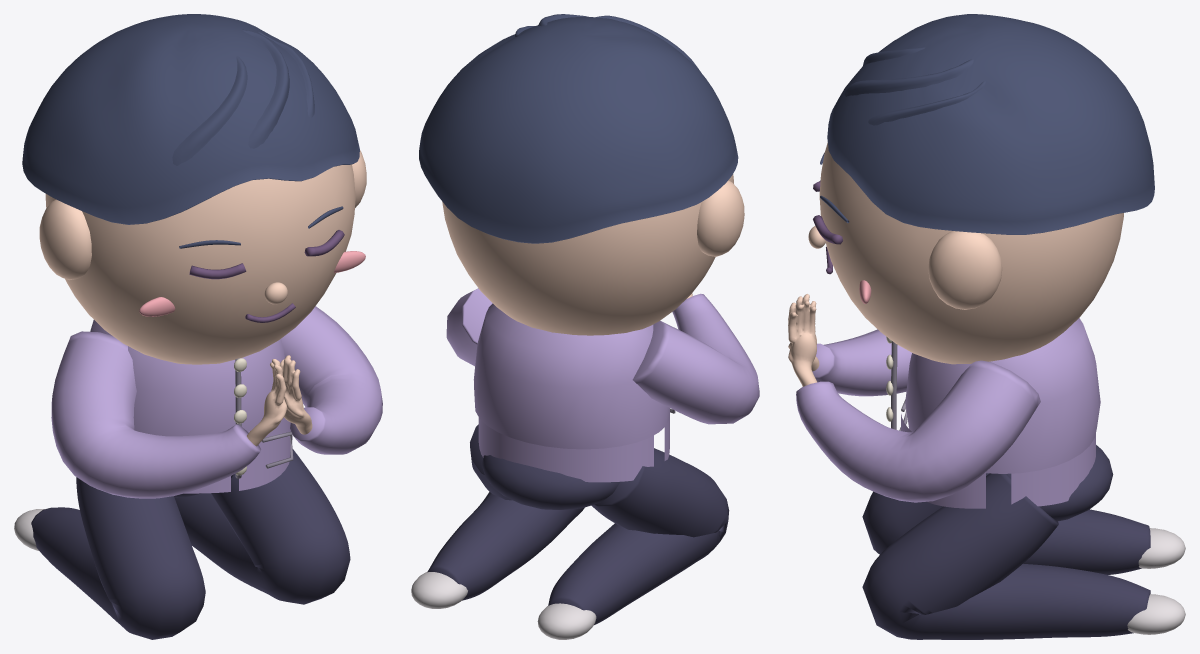
Rendered from meditator_male_kneel_prayer_p06c.glb.
3 renders of one model, left to right at view 1: azimuth 30°, elevation 25°; view 2: azimuth 150°, elevation 25°; view 3: azimuth 270°, elevation 25°, orthographic. The views are drawn at different scales.
Visible parts, largest first — view 1: hair_neat_male_scalp_coverage_p06c_object, skin_rose_cream_UpperBodyBreath_object, ao_ba_ba_top_UpperBodyBreath_object, ao_ba_ba_pants_SeatRoot_object, eyes_mauve_UpperBodyBreath_object, skin_blush_UpperBodyBreath_object, sandal_trim_SeatRoot_object, ao_ba_ba_placket_UpperBodyBreath_object; view 2: hair_neat_male_scalp_coverage_p06c_object, ao_ba_ba_top_UpperBodyBreath_object, ao_ba_ba_pants_SeatRoot_object, skin_rose_cream_UpperBodyBreath_object, sandal_trim_SeatRoot_object; view 3: hair_neat_male_scalp_coverage_p06c_object, ao_ba_ba_top_UpperBodyBreath_object, ao_ba_ba_pants_SeatRoot_object, skin_rose_cream_UpperBodyBreath_object, sandal_trim_SeatRoot_object, eyes_mauve_UpperBodyBreath_object, ao_ba_ba_placket_UpperBodyBreath_object.
Part boxes in pixels (box(x1,y1,x2,y2)): hair_neat_male_scalp_coverage_p06c_object: box(22, 14, 359, 248); skin_rose_cream_UpperBodyBreath_object: box(39, 150, 366, 446); ao_ba_ba_top_UpperBodyBreath_object: box(51, 306, 382, 498); ao_ba_ba_pants_SeatRoot_object: box(31, 449, 350, 639); eyes_mauve_UpperBodyBreath_object: box(189, 230, 344, 322); skin_blush_UpperBodyBreath_object: box(139, 251, 365, 316); sandal_trim_SeatRoot_object: box(14, 509, 44, 550); ao_ba_ba_placket_UpperBodyBreath_object: box(235, 358, 293, 478); hair_neat_male_scalp_coverage_p06c_object: box(419, 14, 738, 243); ao_ba_ba_top_UpperBodyBreath_object: box(446, 288, 759, 482); ao_ba_ba_pants_SeatRoot_object: box(427, 424, 729, 624); skin_rose_cream_UpperBodyBreath_object: box(442, 174, 744, 335); sandal_trim_SeatRoot_object: box(411, 572, 596, 639); hair_neat_male_scalp_coverage_p06c_object: box(820, 14, 1154, 234); ao_ba_ba_top_UpperBodyBreath_object: box(796, 318, 1100, 508); ao_ba_ba_pants_SeatRoot_object: box(862, 445, 1150, 639); skin_rose_cream_UpperBodyBreath_object: box(788, 142, 1123, 386); sandal_trim_SeatRoot_object: box(1127, 528, 1185, 634); eyes_mauve_UpperBodyBreath_object: box(813, 180, 842, 274); ao_ba_ba_placket_UpperBodyBreath_object: box(891, 341, 907, 430).
Bounding box in the file's own units: 0.672 × 1.16 × 0.7285.
